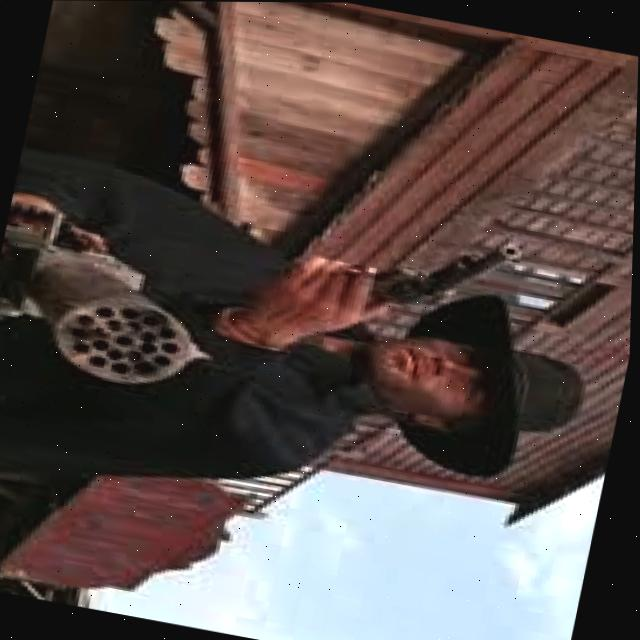firearm: (0, 198, 245, 399)
pistol: (336, 211, 528, 325)
